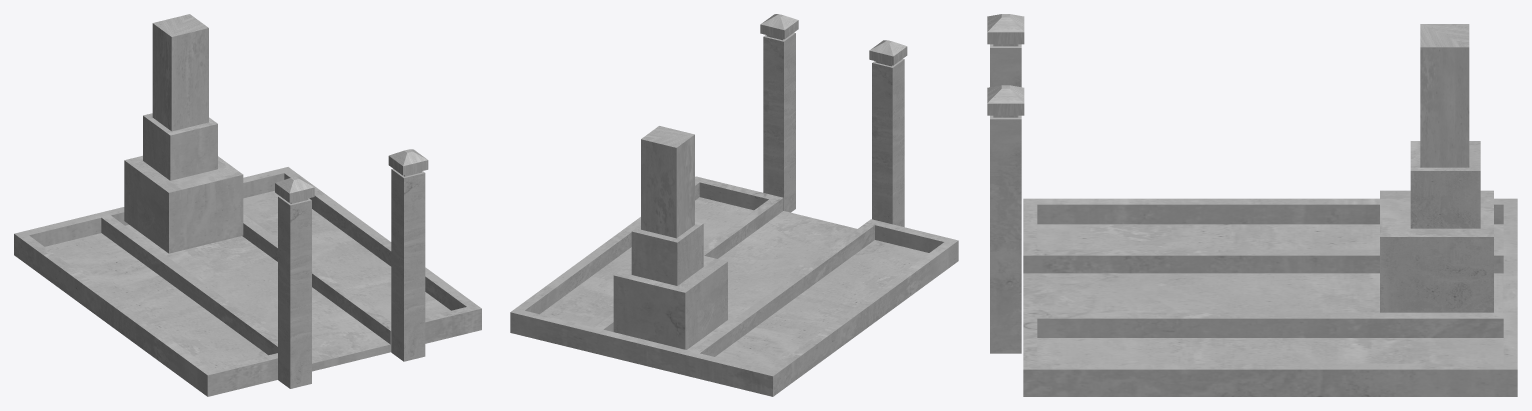
The model's file is groby4.fbx.
3 renders of one model, left to right at view 1: azimuth 30°, elevation 25°; view 2: azimuth 150°, elevation 25°; view 3: azimuth 270°, elevation 25°, orthographic. The views are drawn at different scales.
Visible parts, largest first — view 1: Cube.053, nagrobek.001, Cube.055, Cube.054; view 2: Cube.053, nagrobek.001, Cube.055, Cube.054; view 3: Cube.053, nagrobek.001, Cube.055, Cube.054.
Boxes of the visible parts, <box> form: Cube.053: <box>14,167,481,396</box>; nagrobek.001: <box>124,14,243,253</box>; Cube.055: <box>388,149,428,361</box>; Cube.054: <box>275,176,314,388</box>; Cube.053: <box>510,176,958,396</box>; nagrobek.001: <box>613,126,727,349</box>; Cube.055: <box>760,14,798,212</box>; Cube.054: <box>869,40,907,227</box>; Cube.053: <box>1023,198,1517,396</box>; nagrobek.001: <box>1380,24,1493,312</box>; Cube.055: <box>987,85,1024,353</box>; Cube.054: <box>987,14,1024,87</box>.
Size of the model in its own units: 1476 by 1115 by 1938.
Materials: 3 (3 with a texture image).
